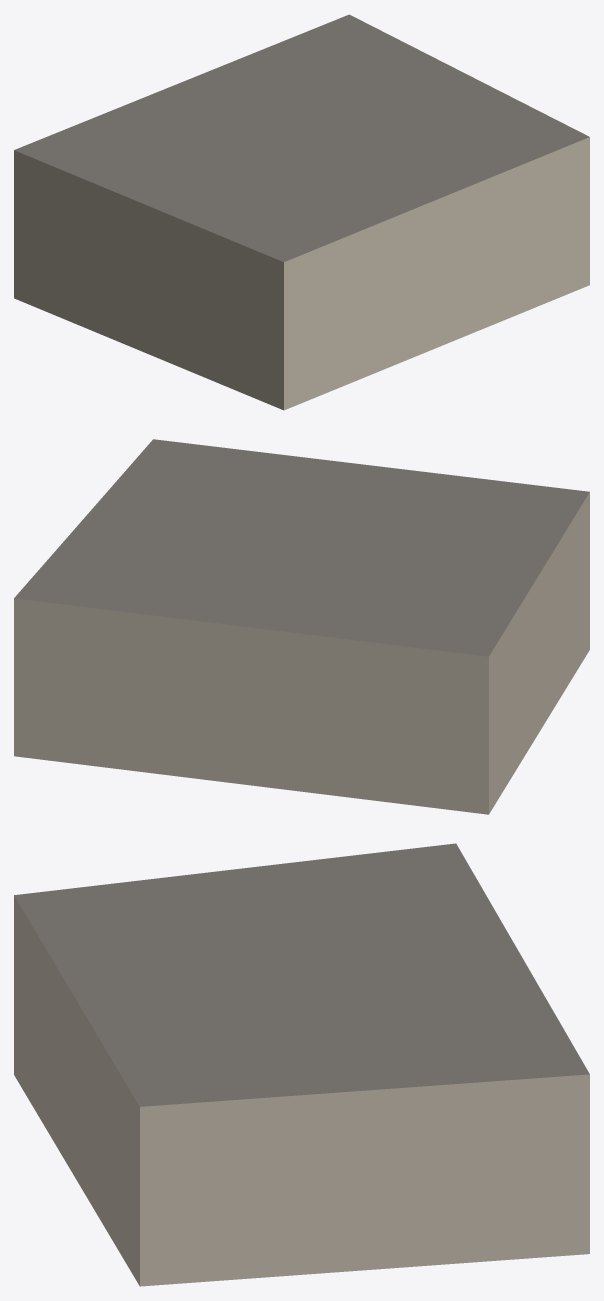
3 renders of one model, top to bottom at view 1: azimuth 30°, elevation 25°; view 2: azimuth 150°, elevation 25°; view 3: azimuth 270°, elevation 25°, orthographic. The views are drawn at different scales.
Parts seen in each view (by area): view 1: HP-w178405875; view 2: HP-w178405875; view 3: HP-w178405875.
Part boxes in pixels (x1,y1,x2,y2): HP-w178405875: [14, 14, 589, 410]; HP-w178405875: [14, 439, 589, 814]; HP-w178405875: [14, 843, 589, 1286].
Bounding box in the file's own units: 47.18 × 15 × 43.58.
